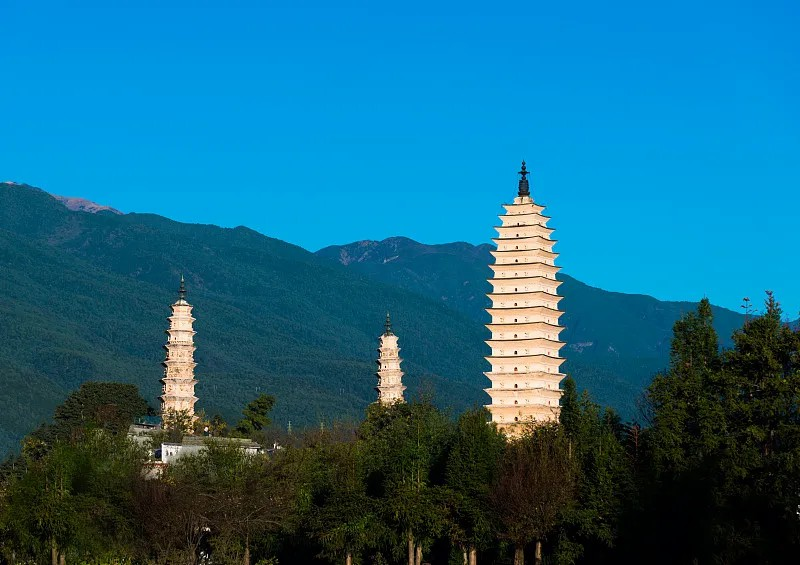ThreePagoda: (482, 158, 567, 441)
